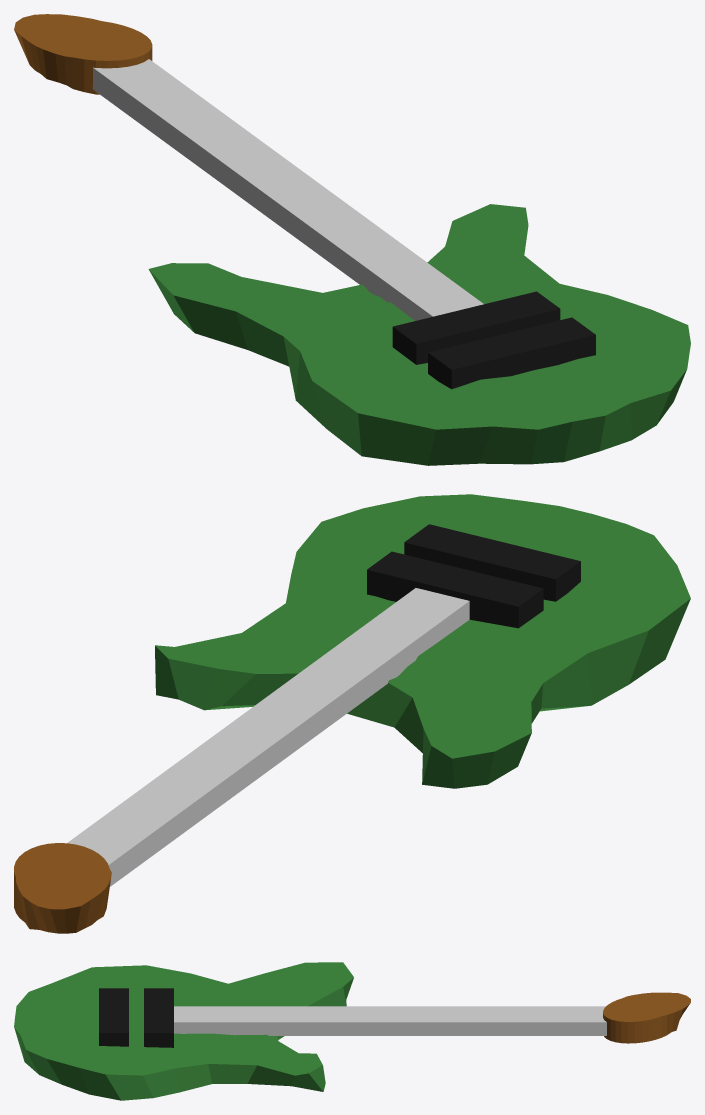
The model's file is bajo.fbx.
3 views of the same model, one above another, from view 1: azimuth 30°, elevation 25°; view 2: azimuth 150°, elevation 25°; view 3: azimuth 270°, elevation 25° (orthographic). The views are drawn at different scales.
Parts seen in each view (by area): view 1: Cilindro, Cubo, Cilindro.002, Cubo.002, Cubo.001; view 2: Cilindro, Cubo, Cilindro.002, Cubo.001, Cubo.002; view 3: Cilindro, Cubo, Cilindro.002, Cubo.001, Cubo.002.
Boxes of the visible parts, x1,y1,x2,y2 form: Cilindro: (148, 204, 690, 465); Cubo: (92, 59, 483, 320); Cilindro.002: (14, 14, 152, 94); Cubo.002: (428, 317, 595, 389); Cubo.001: (392, 291, 560, 364); Cilindro: (155, 494, 690, 788); Cubo: (67, 588, 469, 886); Cilindro.002: (14, 843, 111, 933); Cubo.001: (367, 551, 543, 628); Cubo.002: (404, 524, 580, 601); Cilindro: (14, 962, 353, 1100); Cubo: (174, 1006, 606, 1035); Cilindro.002: (603, 992, 690, 1043); Cubo.001: (144, 988, 173, 1047); Cubo.002: (99, 988, 128, 1046).
Size of the model in its own units: 228 by 43.24 by 590.
